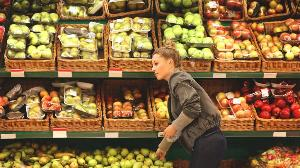apple: (160, 14, 214, 65), (252, 78, 300, 124), (7, 22, 59, 64), (102, 82, 152, 124), (212, 17, 256, 63), (252, 22, 300, 62), (211, 80, 251, 120), (252, 139, 299, 168), (10, 0, 62, 24), (201, 0, 245, 20), (248, 0, 296, 18), (154, 82, 170, 122), (161, 0, 201, 14)
pear: (59, 140, 167, 168), (109, 16, 157, 64), (58, 18, 106, 64), (60, 74, 100, 126), (1, 82, 47, 122), (59, 0, 107, 18), (108, 0, 153, 14)
